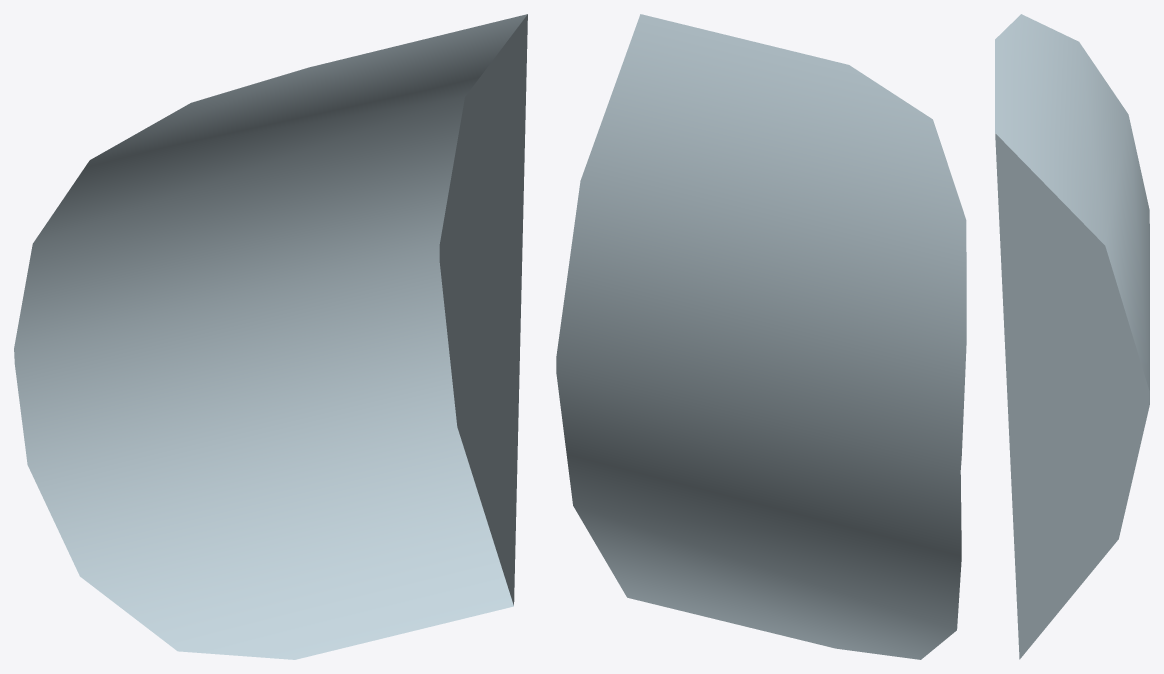
File: Pfen3DE45D4A9opp_144_Pfen3DE45D4A9opp_Mesh_1.obj
3 views of the same model, side by side, from view 1: azimuth 30°, elevation 25°; view 2: azimuth 150°, elevation 25°; view 3: azimuth 270°, elevation 25° (orthographic). The views are drawn at different scales.
Parts seen in each view (by area): view 1: Mesh_Diffuse_11; view 2: Mesh_Diffuse_11; view 3: Mesh_Diffuse_11.
Boxes of the visible parts, x1,y1,x2,y2 form: Mesh_Diffuse_11: (14,14,527,659); Mesh_Diffuse_11: (556,14,966,659); Mesh_Diffuse_11: (995,14,1149,659).
Size of the model in its own units: 0.00583 by 0.00788 by 0.0021.
